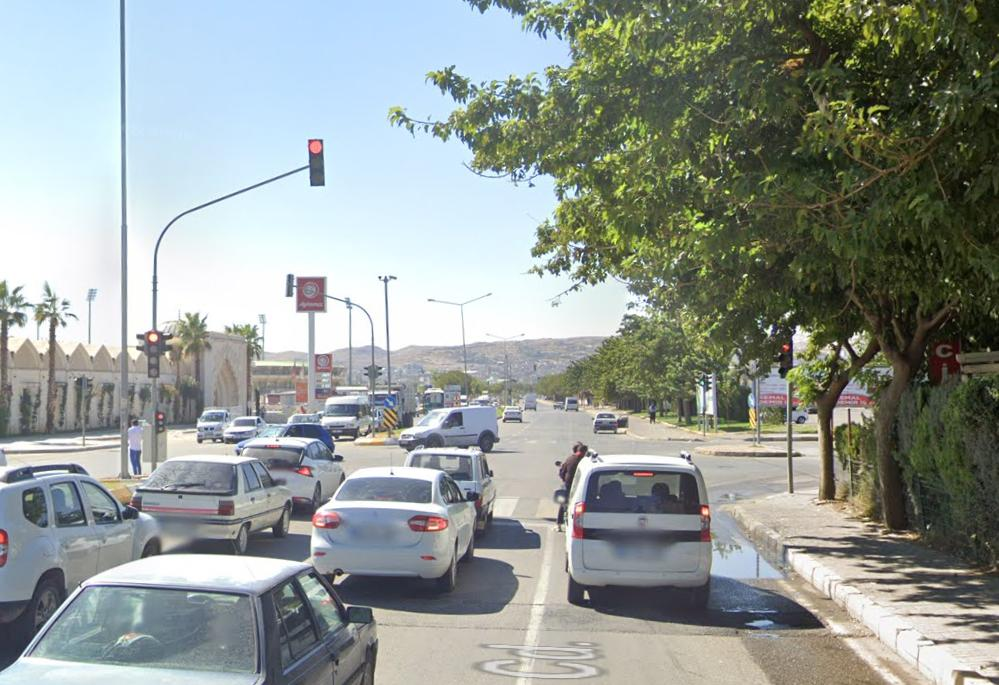redlight: (309, 138, 326, 187), (145, 331, 161, 380), (781, 331, 793, 373)
